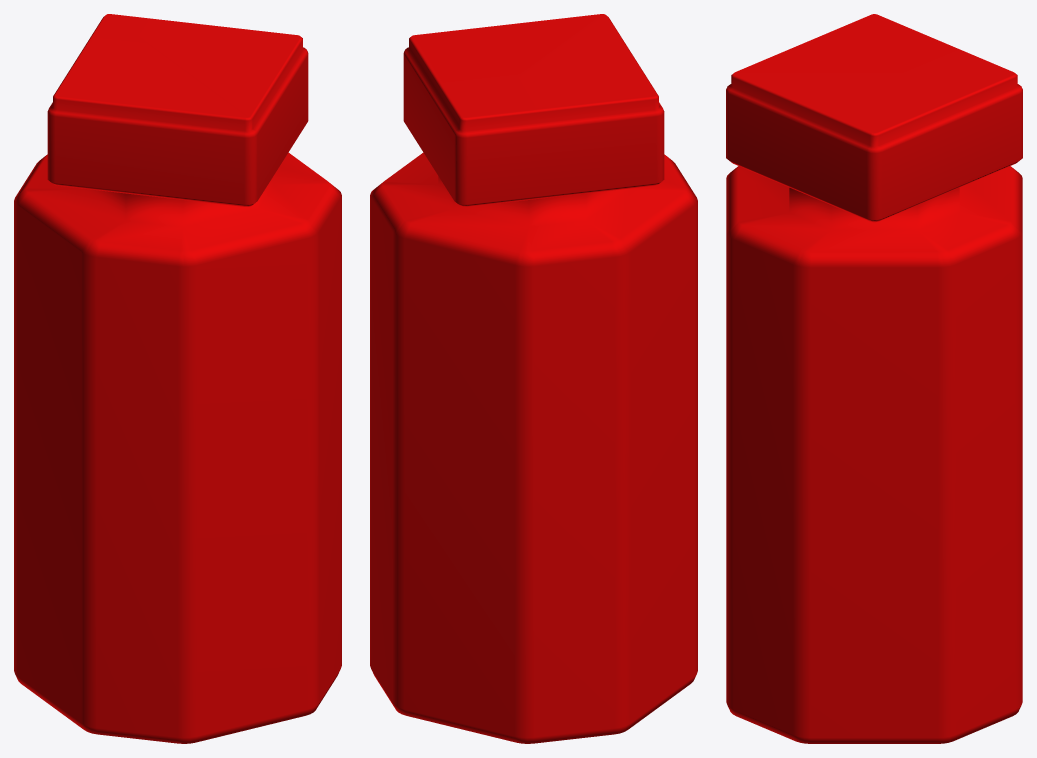
The model's file is Package_14.fbx.
3 renders of one model, left to right at view 1: azimuth 30°, elevation 25°; view 2: azimuth 150°, elevation 25°; view 3: azimuth 270°, elevation 25°, orthographic.
Visible parts, largest first — view 1: L16:pCube5; view 2: L16:pCube5; view 3: L16:pCube5.
Part boxes in pixels (x1,y1,x2,y2): L16:pCube5: [14, 14, 341, 743]; L16:pCube5: [370, 14, 697, 743]; L16:pCube5: [726, 14, 1022, 743].
Size of the model in its own units: 12.68 by 28.88 by 12.68.
